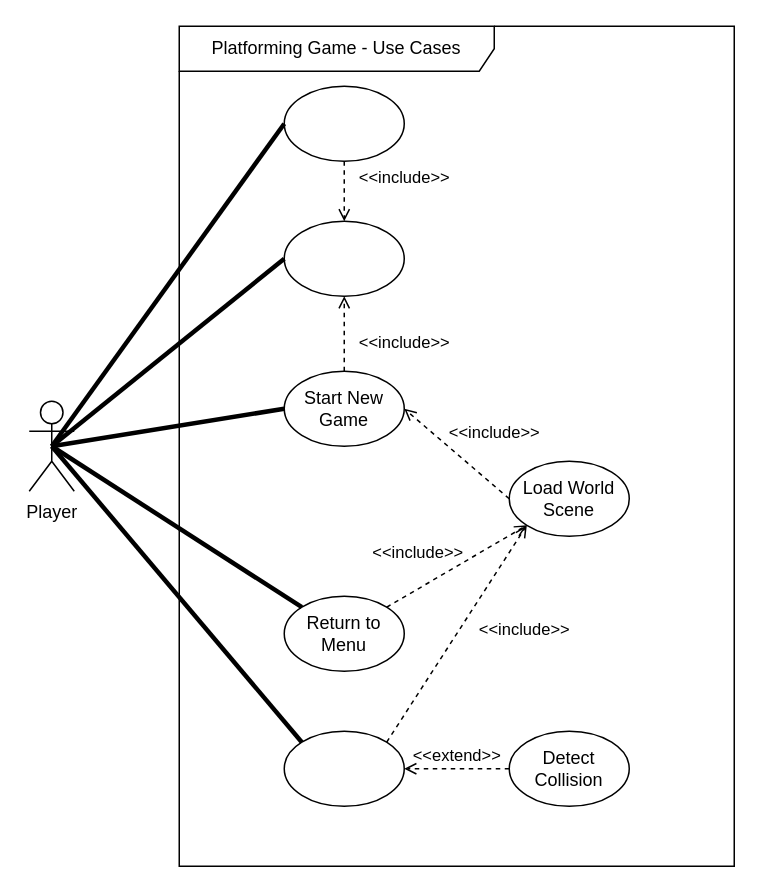
The diagram is 761 pixels wide and 893 high, and some of its shapes have lost their labels. The centre of each missing label's shape, as x and y in pixels:
"Control Character" goes at (x=343, y=768).
"Load Menu" goes at (x=343, y=258).
"Quit Game Application" goes at (x=343, y=123).
